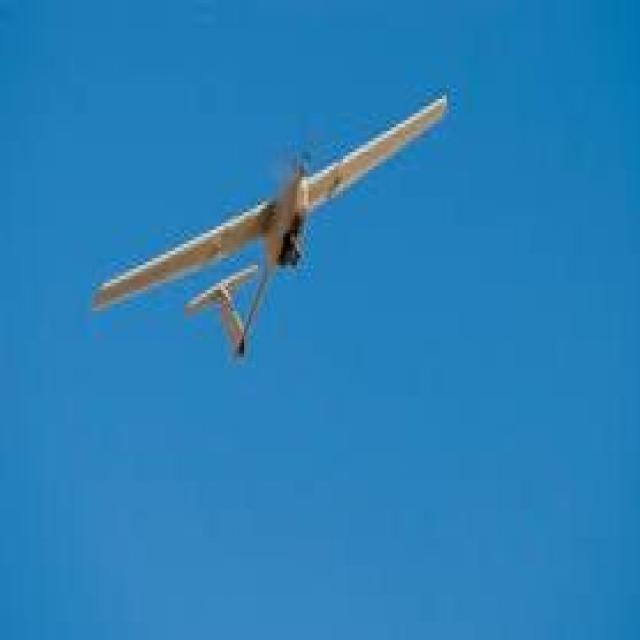iha: (99, 122, 421, 331)
